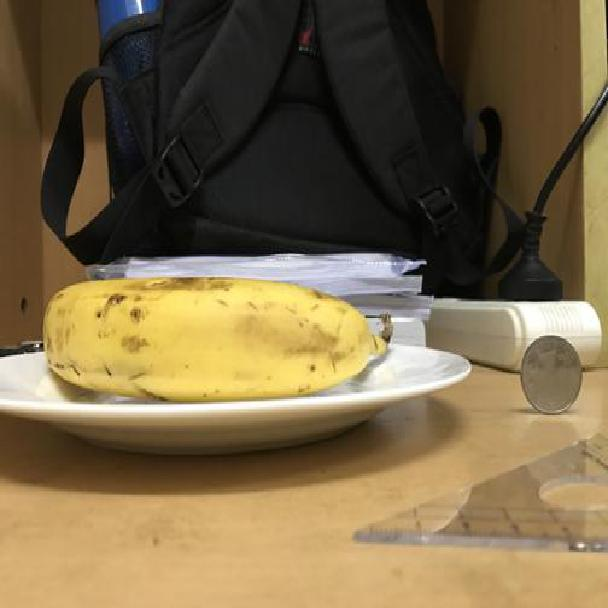banana: (35, 275, 399, 400)
